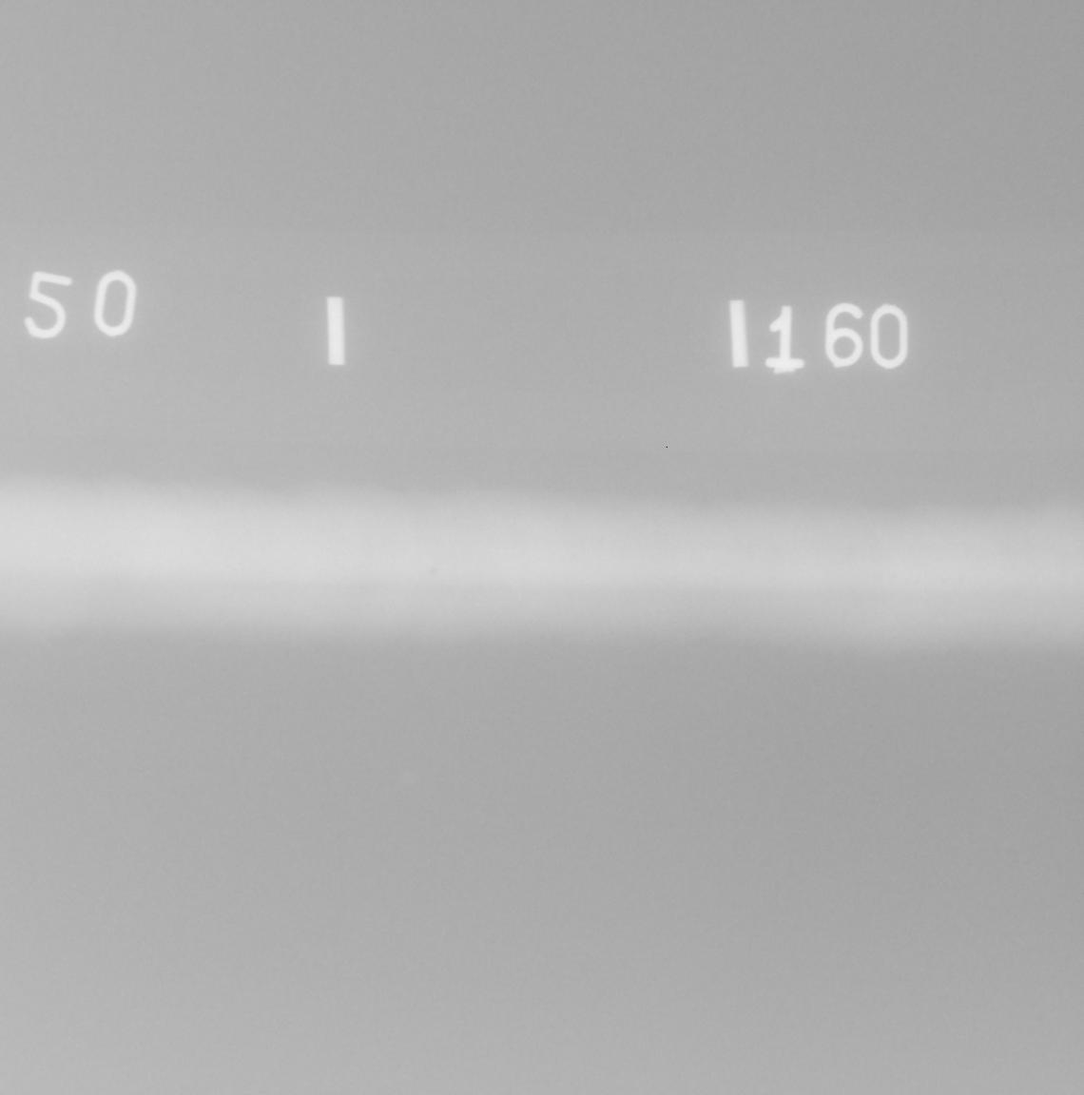Pore/Porosity: (427, 567, 438, 576), (913, 579, 920, 585), (959, 576, 964, 581), (942, 578, 947, 582)
